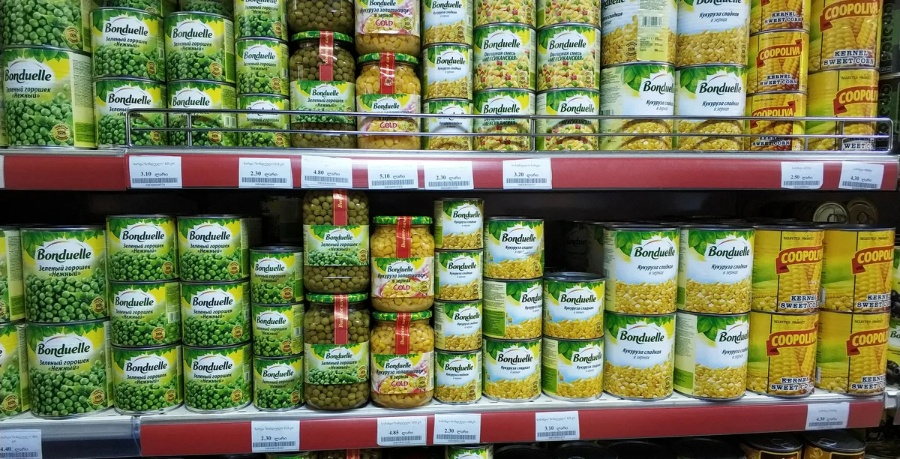peas: (1, 44, 105, 163), (18, 316, 122, 418), (20, 221, 116, 328), (302, 291, 378, 419), (301, 190, 377, 302), (106, 335, 195, 419), (87, 4, 176, 86), (168, 209, 256, 289), (160, 7, 240, 94), (178, 339, 267, 416), (104, 205, 186, 287), (244, 239, 308, 313), (251, 352, 308, 418), (249, 301, 310, 361)
